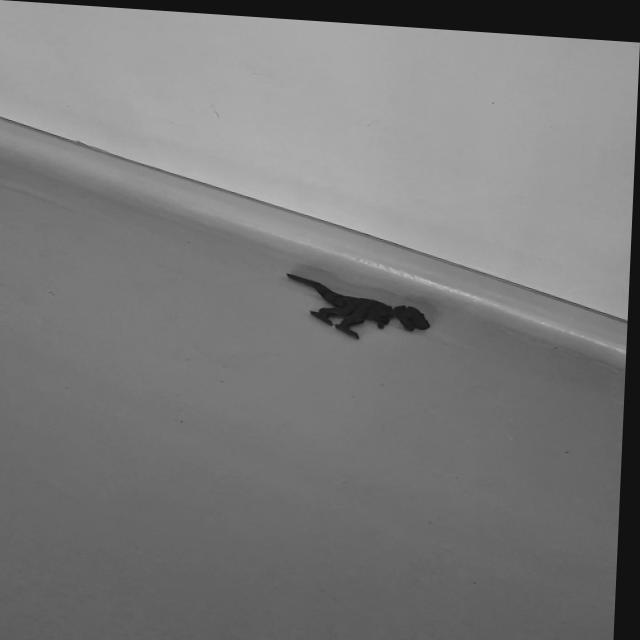dino: (283, 273, 433, 345)
